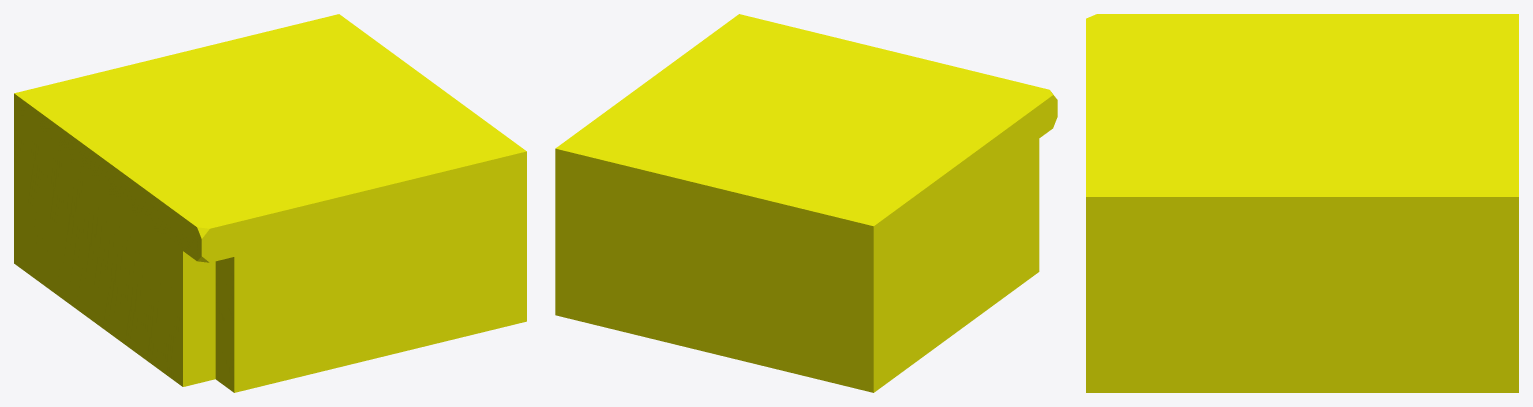
Rendered from kaykit-kitchencounter-innercorner.glb.
3 views of the same model, side by side, from view 1: azimuth 30°, elevation 25°; view 2: azimuth 150°, elevation 25°; view 3: azimuth 270°, elevation 25° (orthographic). The views are drawn at different scales.
Visible parts, largest first — view 1: kitchencounter_innercorner; view 2: kitchencounter_innercorner; view 3: kitchencounter_innercorner.
Boxes of the visible parts, x1,y1,x2,y2 form: kitchencounter_innercorner: (14,14,526,392); kitchencounter_innercorner: (555,14,1057,392); kitchencounter_innercorner: (1086,14,1518,392).
Bounding box in the file's own units: 2 × 1 × 2.
